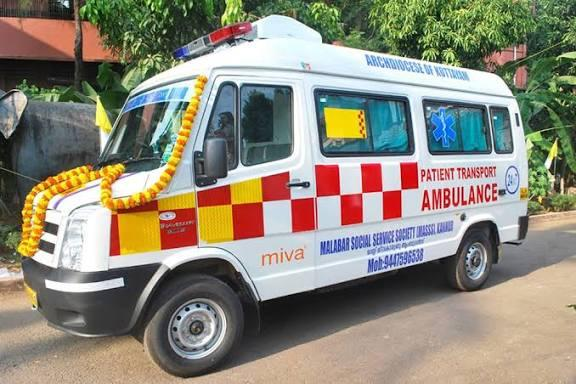ambulance: (24, 15, 524, 377)
